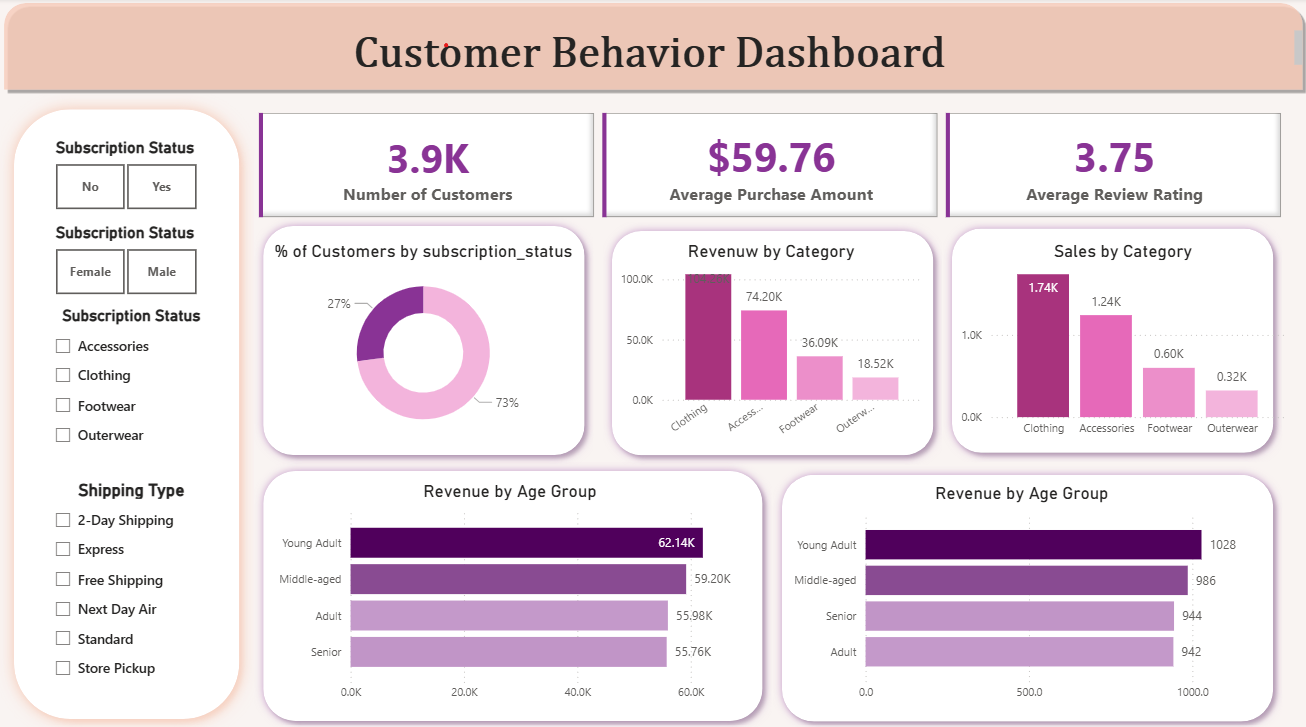

The page's visual inventory and layout, read from the dashboard file:
{"tool":"powerbi","page":{"name":"Page 1","canvas":[1280,720],"ordinal":0},"visuals":[{"type":"shape","box":[0,94.7,249.7,625.7],"z":0},{"type":"shape","box":[756.5,457.4,498.5,259.5],"z":1000},{"type":"shape","box":[250.1,454.2,506.4,262.7],"z":2000},{"type":"shape","box":[250.1,213.7,332.3,242.1],"z":3000},{"type":"shape","box":[590.3,218.4,332.3,237.4],"z":4000},{"type":"shape","box":[922.7,216.8,332.3,237.4],"z":5000},{"type":"shape","box":[0,0,1280.3,94.7],"z":6000},{"type":"textbox","box":[0,27.4,1280.3,50.8],"z":7000},{"type":"cardVisual","fields":{"Data":["customer.Number of Customers","customer.Average Purchase Amount","customer.Average Review Rating"]},"box":[250.1,107.6,1012.9,112.4],"z":8000},{"type":"donutChart","title":"% of Customers by subscription_status","fields":{"Y":["customer.Number of Customers"],"Category":["customer.subscription_status"]},"box":[264.3,237.4,302.3,201],"z":9000},{"type":"clusteredColumnChart","title":"Revenuw by Category","fields":{"Y":["Sum(customer.purchase_amount)"],"Category":["customer.category"]},"box":[603,237.4,305.4,201],"z":10000},{"type":"clusteredColumnChart","title":"Sales by Category","fields":{"Y":["customer.Number of Customers"],"Category":["customer.category"]},"box":[936.9,237.4,326,201],"z":11000},{"type":"barChart","title":"Revenue by Age Group","fields":{"Category":["customer.age_group"],"Y":["Sum(customer.purchase_amount)"]},"box":[264.3,471.6,471.6,224.7],"z":12000},{"type":"barChart","title":"Revenue by Age Group","fields":{"Category":["customer.age_group"],"Y":["customer.Number of Customers"]},"box":[767.6,474.8,465.3,221.6],"z":13000},{"type":"slicer","title":"Subscription Status","fields":{"Values":["customer.subscription_status"]},"box":[28.9,137.3,187.9,76.6],"z":14000},{"type":"slicer","title":"Subscription Status","fields":{"Values":["customer.gender"]},"box":[28.9,219.6,187.9,76.6],"z":14001},{"type":"slicer","title":"Subscription Status","fields":{"Values":["customer.category"]},"box":[43.4,302,173.4,154.6],"z":14002},{"type":"slicer","title":"Shipping Type","fields":{"Values":["customer.shipping_type"]},"box":[43.4,471.1,173.4,213.9],"z":14003}]}

Visuals, with their boxes in screenshot pixels (x1, y1, x2, y2), scaled from the page's 1280x720 canvas onto the 1306x727 screenshot:
shape: box=[0, 96, 255, 726]
shape: box=[772, 462, 1280, 724]
shape: box=[255, 459, 772, 724]
shape: box=[255, 216, 594, 460]
shape: box=[602, 221, 941, 460]
shape: box=[941, 219, 1280, 459]
shape: box=[0, 0, 1305, 96]
textbox: box=[0, 28, 1305, 79]
cardVisual - customer.Number of Customers x customer.Average Purchase Amount: box=[255, 109, 1289, 222]
"% of Customers by subscription_status" donutChart: box=[270, 240, 578, 443]
"Revenuw by Category" clusteredColumnChart: box=[615, 240, 927, 443]
"Sales by Category" clusteredColumnChart: box=[956, 240, 1289, 443]
"Revenue by Age Group" barChart: box=[270, 476, 751, 703]
"Revenue by Age Group" barChart: box=[783, 479, 1258, 703]
"Subscription Status" slicer: box=[29, 139, 221, 216]
"Subscription Status" slicer: box=[29, 222, 221, 299]
"Subscription Status" slicer: box=[44, 305, 221, 461]
"Shipping Type" slicer: box=[44, 476, 221, 692]
